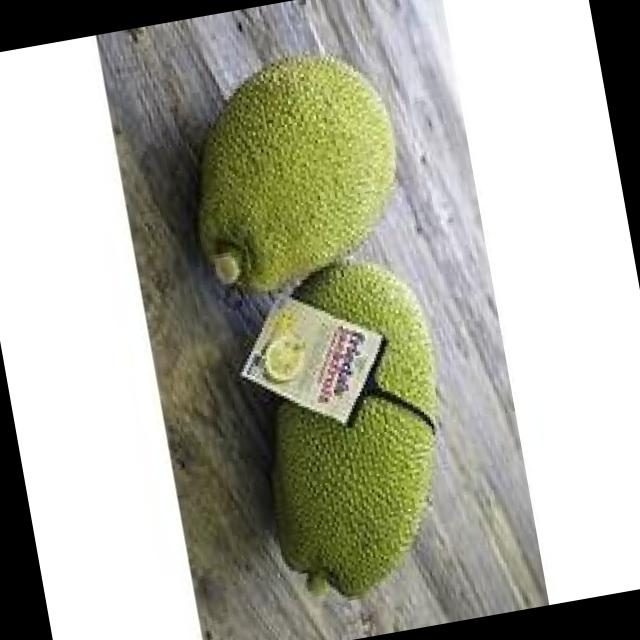Fruit: (154, 30, 426, 314), (240, 360, 468, 618)
